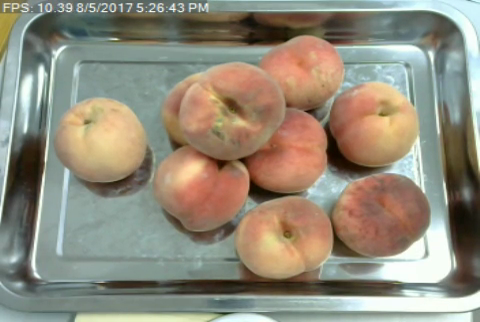Peach: (179, 62, 286, 158), (153, 144, 249, 233), (332, 172, 432, 255), (233, 197, 333, 279), (54, 96, 146, 183), (329, 82, 419, 167), (245, 107, 327, 194), (259, 34, 342, 109)
